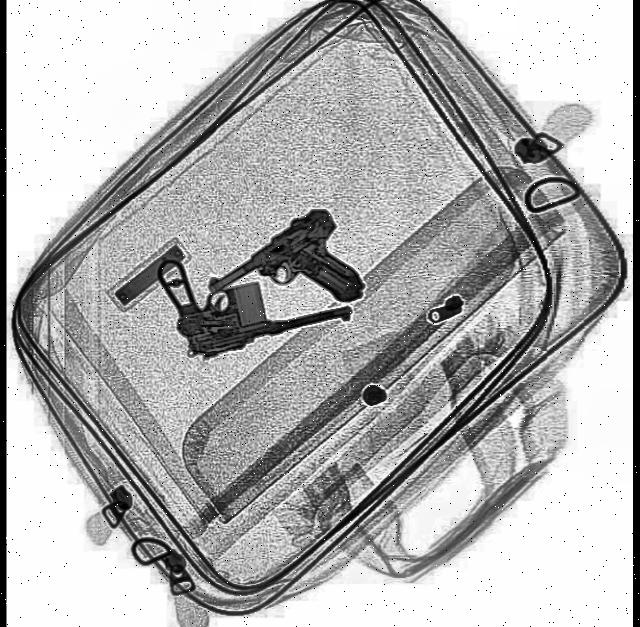Gun: (158, 217, 358, 368), (207, 202, 372, 370)
